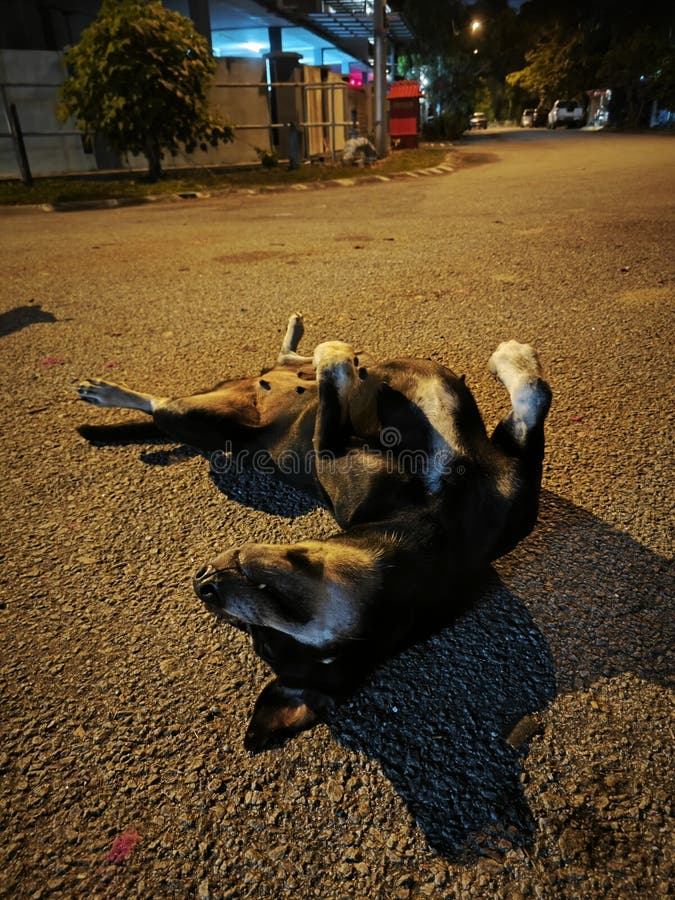Dog: (50, 330, 586, 749)
